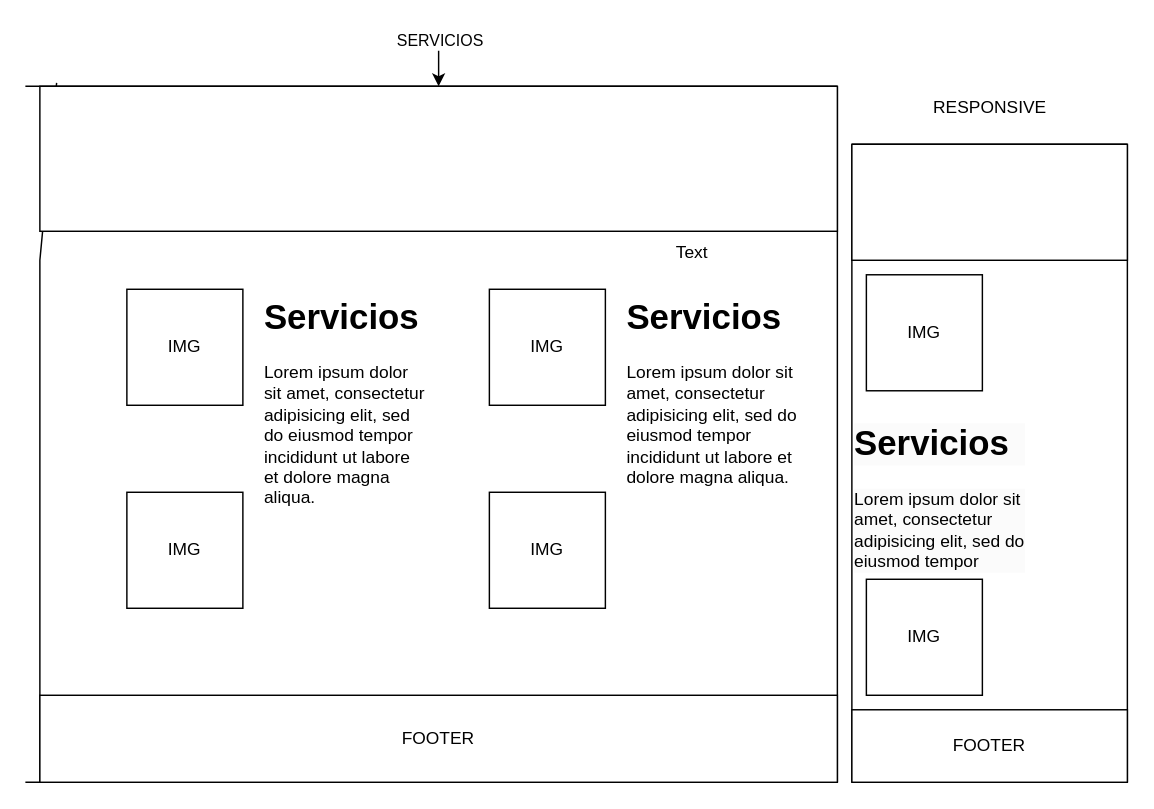
Some shapes in this 1154 by 809 pixel diagram are drawn without their labels. Each missing label, with the centre of its shape:
BARRA DE NAVEGACION: [437,158]
NAV BAR: [988,201]
